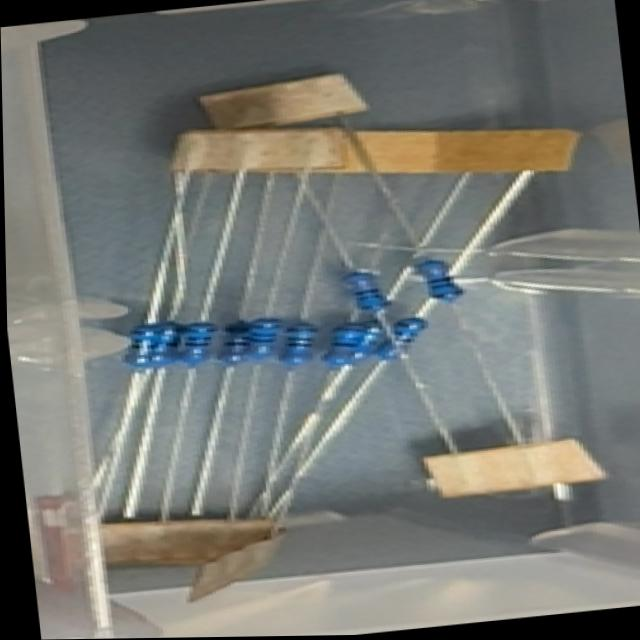Resistor: (375, 315, 434, 363), (414, 256, 467, 303), (318, 320, 367, 368), (340, 267, 389, 313), (276, 320, 320, 369), (339, 316, 380, 367), (122, 323, 166, 370), (245, 314, 284, 362), (177, 319, 216, 366), (216, 321, 255, 366), (148, 320, 178, 367)
